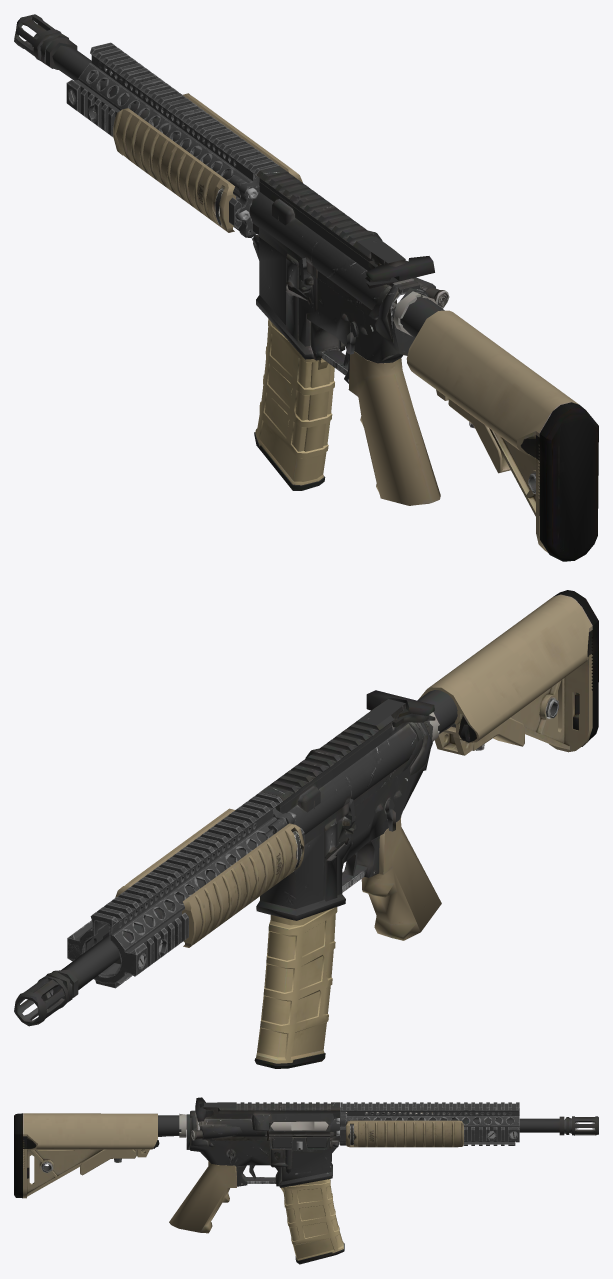
The picture shows the model from 3 angles, top to bottom: view 1: azimuth 30°, elevation 25°; view 2: azimuth 150°, elevation 25°; view 3: azimuth 270°, elevation 25°; orthographic projection. The views are drawn at different scales.
Parts seen in each view (by area): view 1: body_Material_0, stock_Material.007_0, handgaurd 1_Material.003_0, magazine_Material.015_0, rail cover_Material.012_0, handgaurd 2_Material.009_0; view 2: body_Material_0, stock_Material.007_0, handgaurd 1_Material.003_0, magazine_Material.015_0, rail cover_Material.012_0; view 3: body_Material_0, stock_Material.007_0, handgaurd 1_Material.003_0, magazine_Material.015_0, rail cover_Material.012_0, handgaurd 2_Material.009_0.
Boxes of the visible parts, x1,y1,x2,y2 form: body_Material_0: (14,14,449,505); stock_Material.007_0: (406,310,598,561); handgaurd 1_Material.003_0: (66,42,278,230); magazine_Material.015_0: (254,319,334,490); rail cover_Material.012_0: (113,93,302,232); handgaurd 2_Material.009_0: (69,90,259,237); body_Material_0: (14,690,457,1026); stock_Material.007_0: (418,590,598,755); handgaurd 1_Material.003_0: (67,792,304,988); magazine_Material.015_0: (254,907,337,1068); rail cover_Material.012_0: (115,808,304,947); body_Material_0: (158,1097,598,1233); stock_Material.007_0: (14,1113,159,1198); handgaurd 1_Material.003_0: (340,1102,519,1145); magazine_Material.015_0: (281,1179,344,1264); rail cover_Material.012_0: (346,1112,463,1147); handgaurd 2_Material.009_0: (336,1107,516,1145).
Bounding box in the file's own units: 0.0753 × 0.2475 × 0.8396.
Materials: 6 (6 with a texture image).
